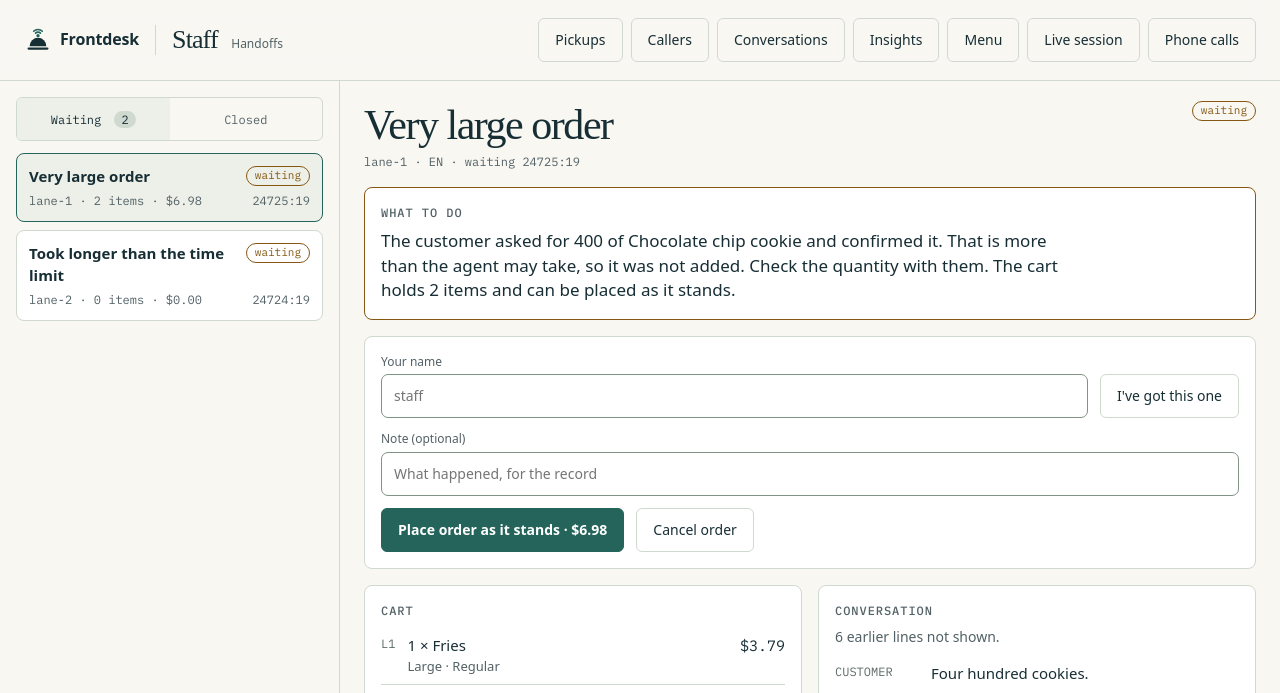
Test: the staff screen › shows another handoff when it is chosen
The width and height of the screenshot is (1280, 693).
Click the button "Took longer than the time limit" at (127, 253), box [16,230,323,321]
(page scrolled)
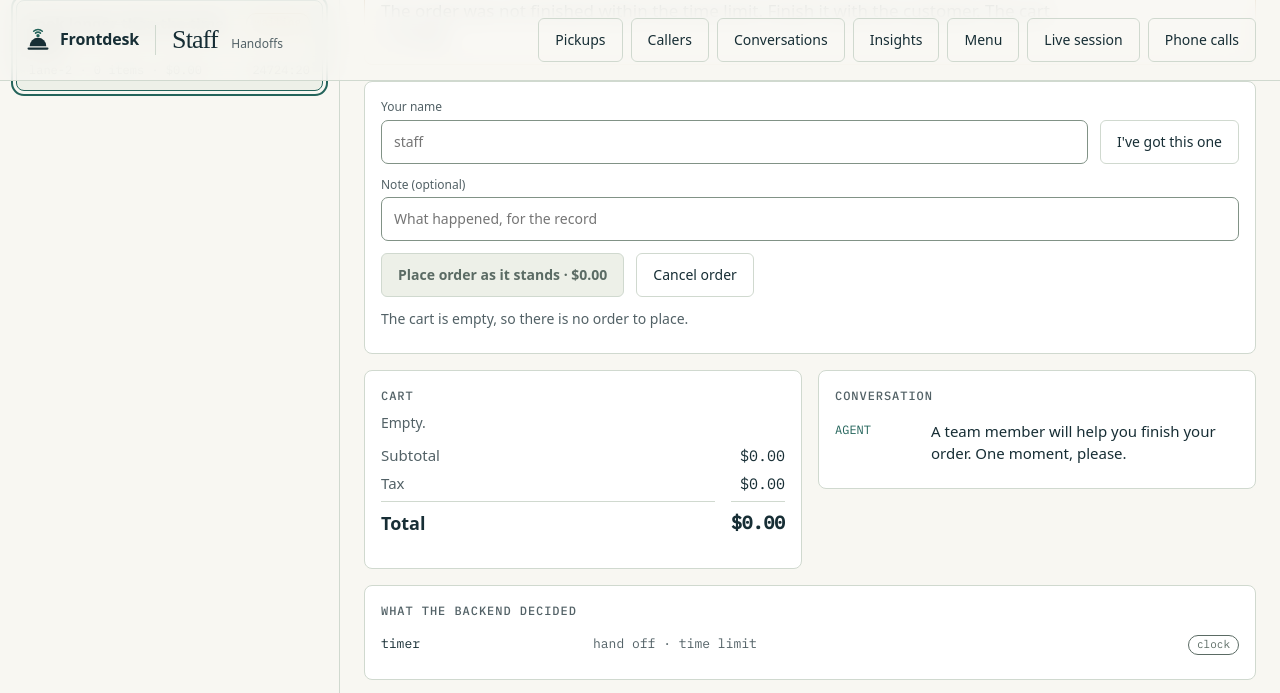
Result: the text "hand off · time limit" is shown at [593,635,757,652]
Result: the text "clock" is shown at [1188,635,1239,655]
